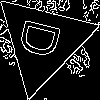D: (18, 16, 70, 63)
